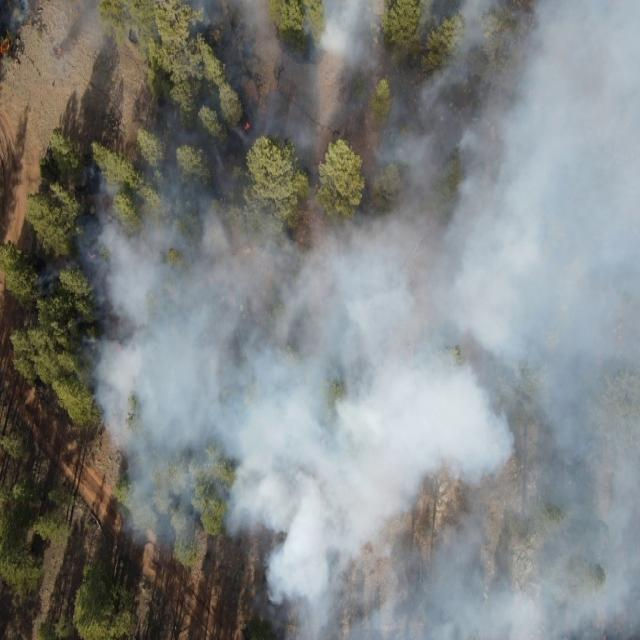fire: (2, 38, 18, 62), (241, 116, 252, 134), (55, 42, 66, 58)
smoke: (80, 154, 640, 535), (163, 0, 640, 158), (264, 539, 640, 640)
